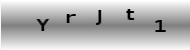1: (153, 18, 167, 33)
J: (94, 8, 102, 25)
Y: (36, 17, 50, 33)
r: (66, 13, 77, 24)
t: (125, 8, 136, 21)
